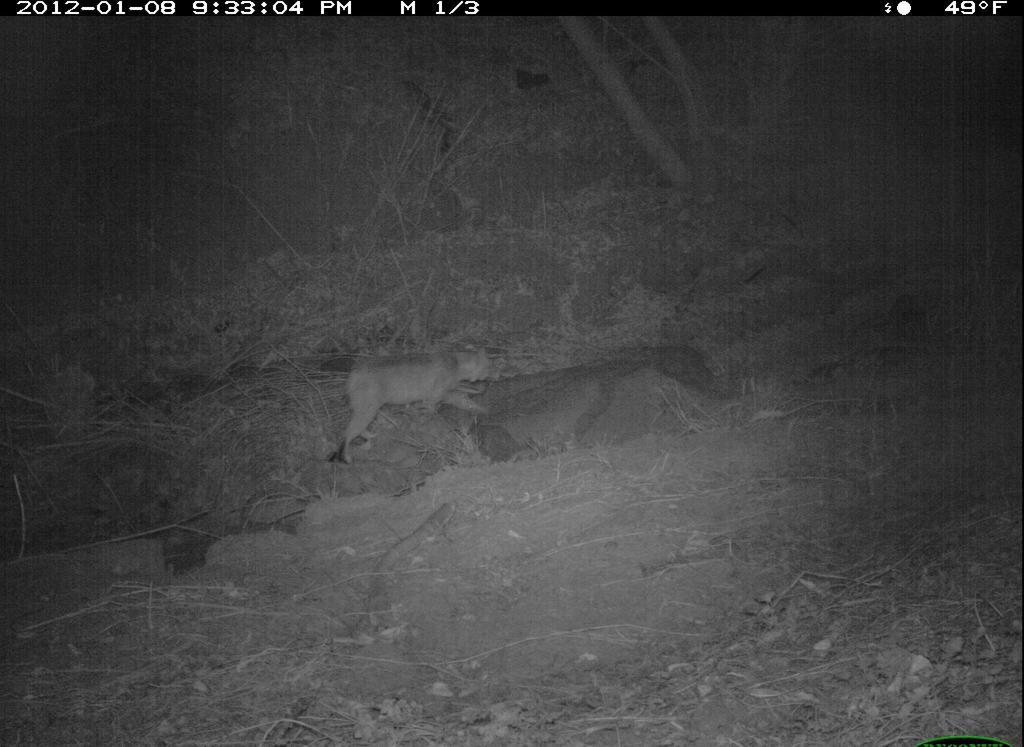bobcat: (324, 332, 509, 477)
